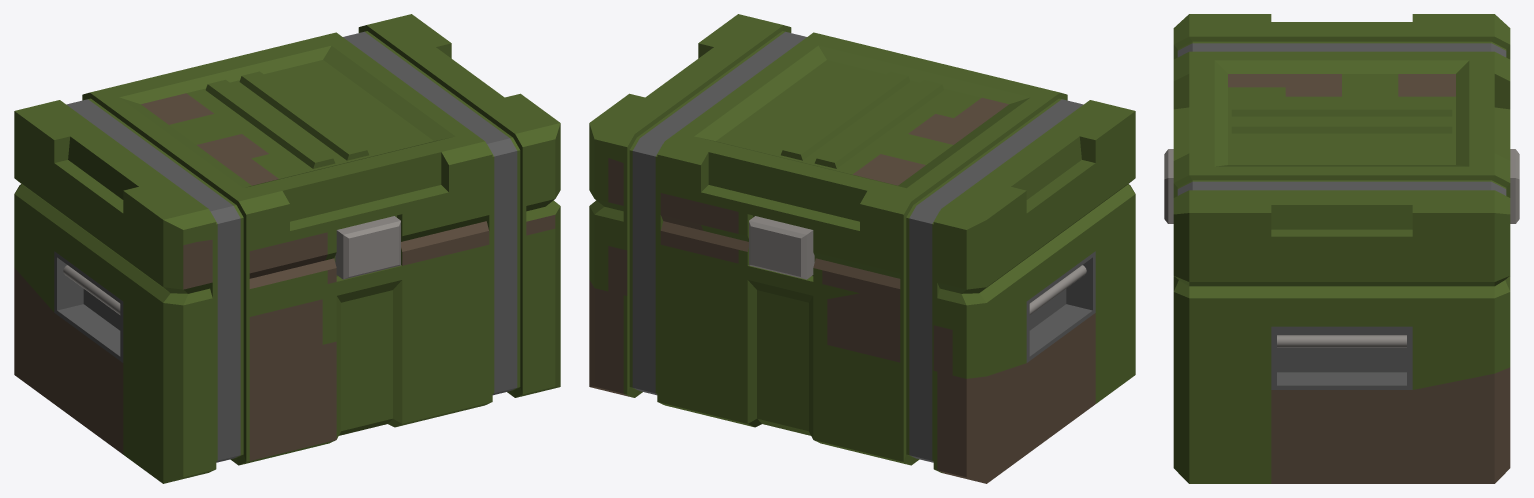
The model's file is chest_special.glb.
The picture shows the model from 3 angles, left to right: view 1: azimuth 30°, elevation 25°; view 2: azimuth 150°, elevation 25°; view 3: azimuth 270°, elevation 25°; orthographic projection. The views are drawn at different scales.
Visible parts, largest first — view 1: Chest; view 2: Chest; view 3: Chest.
Part boxes in pixels (box(x1,y1,x2,y2)): Chest: box(14, 14, 560, 483); Chest: box(589, 14, 1135, 483); Chest: box(1164, 14, 1519, 483).
Bounding box in the file's own units: 0.6396 × 0.4061 × 0.483.
Materials: 1 (1 with a texture image).
